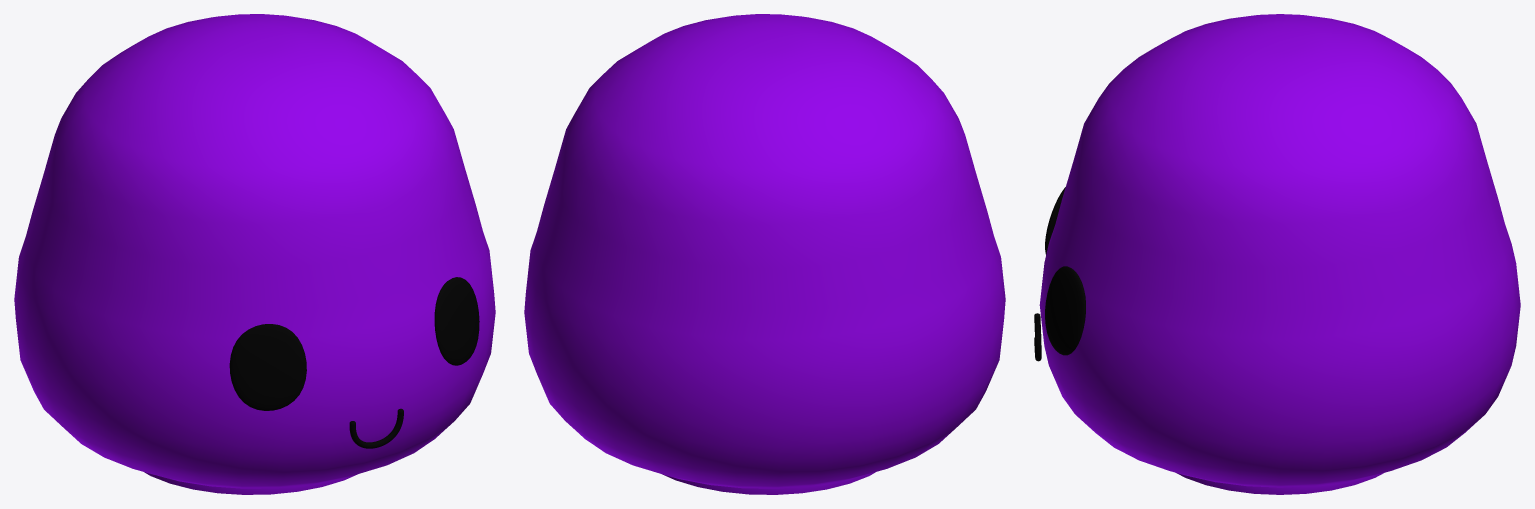
Rendered from headctopus.fbx.
The picture shows the model from 3 angles, left to right: view 1: azimuth 30°, elevation 25°; view 2: azimuth 150°, elevation 25°; view 3: azimuth 270°, elevation 25°; orthographic projection.
Parts seen in each view (by area): view 1: head, Eyes, Cylinder, NurbsPath; view 2: head, Cylinder; view 3: head, Eyes, Cylinder.
Part boxes in pixels (x1,y1,x2,y2): head: [14, 14, 495, 488]; Eyes: [229, 277, 479, 410]; Cylinder: [144, 472, 357, 494]; NurbsPath: [349, 408, 403, 448]; head: [524, 14, 1005, 488]; Cylinder: [662, 472, 875, 494]; head: [1039, 14, 1520, 487]; Eyes: [1045, 187, 1085, 355]; Cylinder: [1176, 473, 1383, 494].
Bounding box in the file's own units: 200 × 188 × 202.
